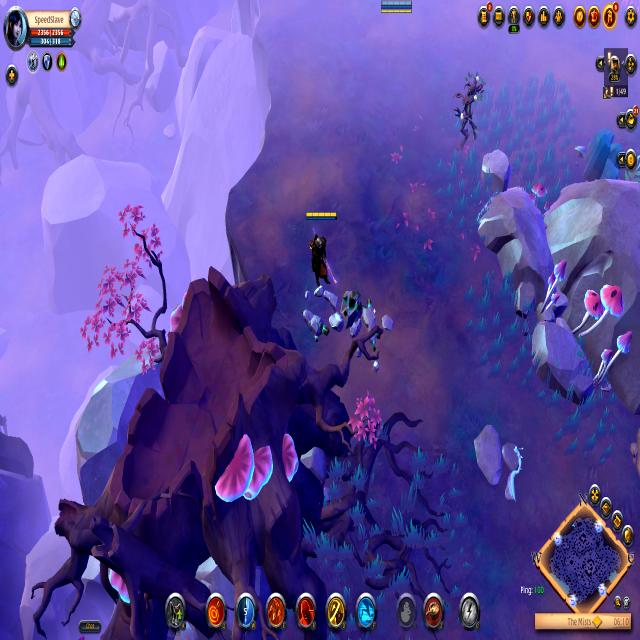ore: (450, 67, 488, 145)
player: (337, 283, 371, 330)
red: (302, 206, 338, 291), (374, 0, 416, 20)
tree: (581, 128, 625, 192)
